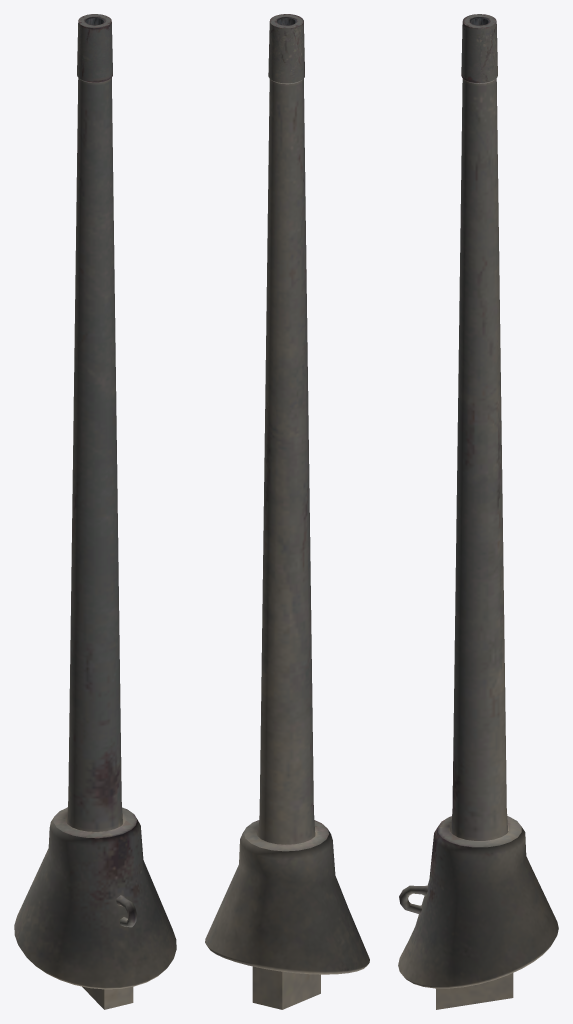
Rendered from Gun_01.glb.
3 renders of one model, left to right at view 1: azimuth 30°, elevation 25°; view 2: azimuth 150°, elevation 25°; view 3: azimuth 270°, elevation 25°, orthographic.
Parts seen in each view (by area): view 1: set_0_group_0; view 2: set_0_group_0; view 3: set_0_group_0.
Boxes of the visible parts, x1=… form: set_0_group_0: x1=14, y1=14, x2=176, y2=1009; set_0_group_0: x1=205, y1=14, x2=369, y2=1009; set_0_group_0: x1=398, y1=14, x2=558, y2=1009.
Bounding box in the file's own units: 0.685 × 4.47 × 0.6639.
1 material, 1 textured.
